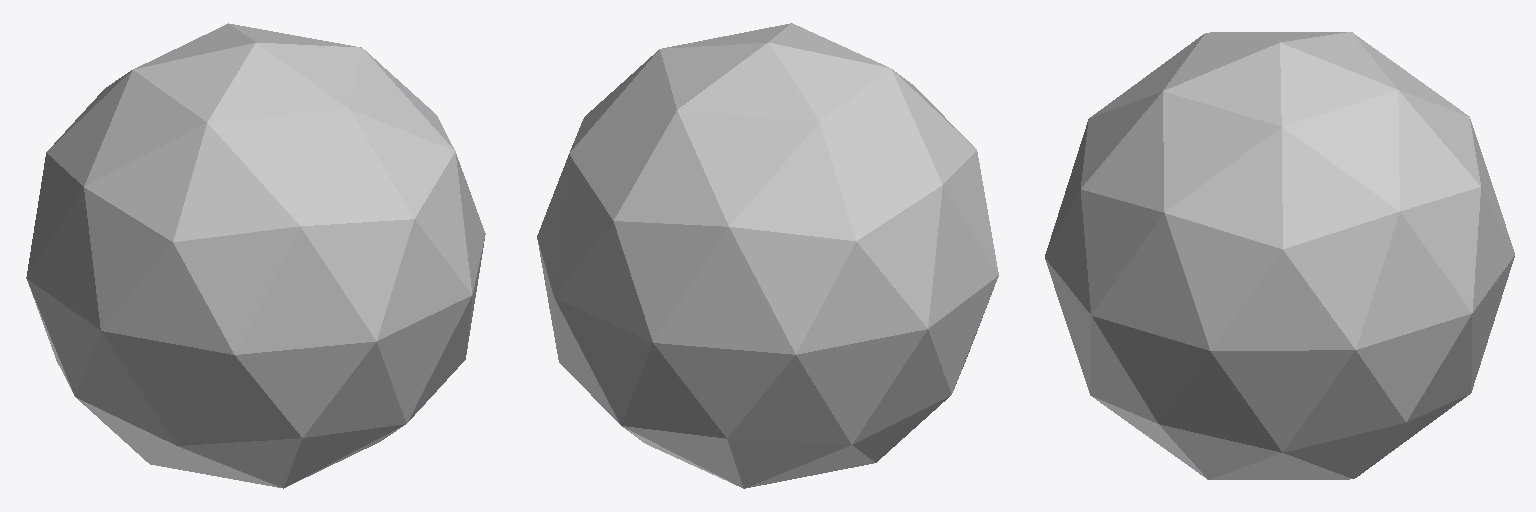
File: sphere_crude.obj
3 views of the same model, side by side, from view 1: azimuth 30°, elevation 25°; view 2: azimuth 150°, elevation 25°; view 3: azimuth 270°, elevation 25° (orthographic).
Bounding box in the file's own units: 11.74 × 12.29 × 12.29.